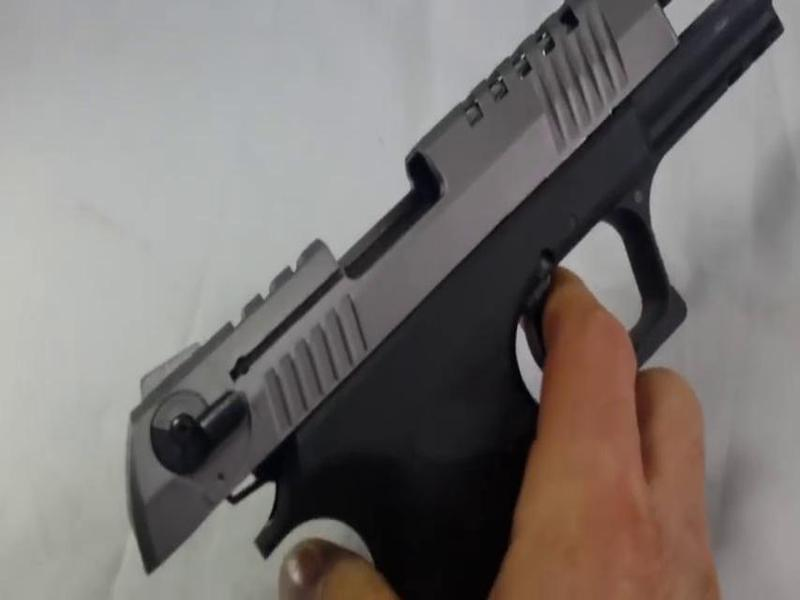Pistola: (120, 1, 768, 590)
